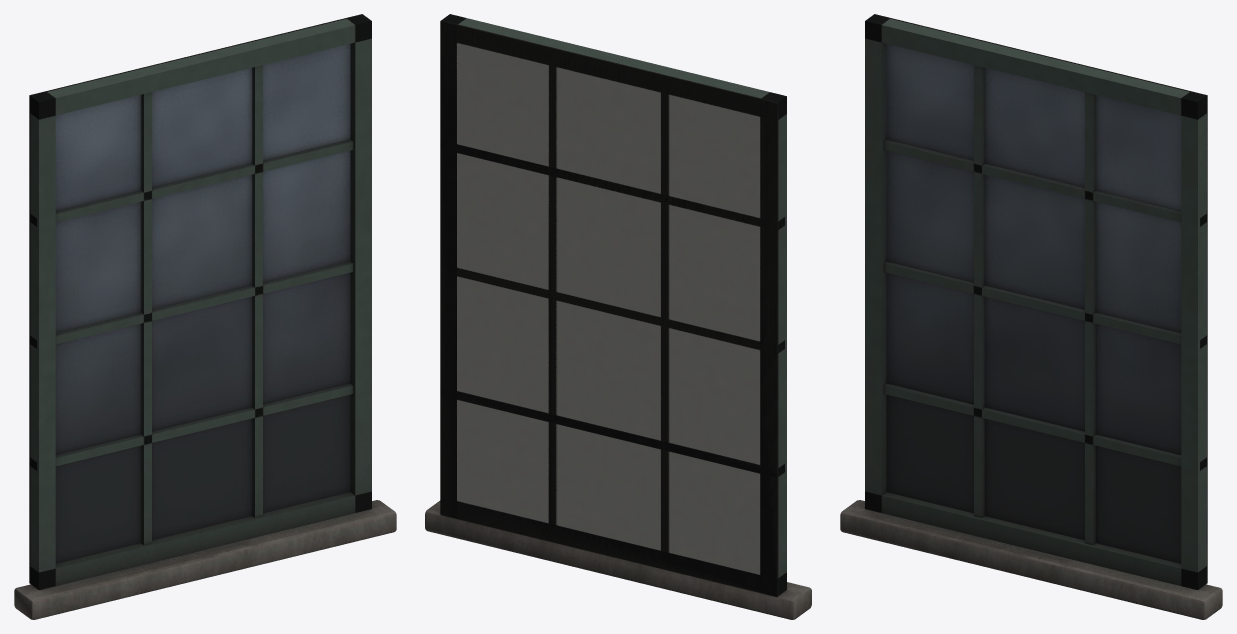
The model's file is win_factory_tall.glb.
The picture shows the model from 3 angles, left to right: view 1: azimuth 30°, elevation 25°; view 2: azimuth 150°, elevation 25°; view 3: azimuth 330°, elevation 25°; orthographic projection.
Visible parts, largest first — view 1: win_factory_tall; view 2: win_factory_tall; view 3: win_factory_tall.
Boxes of the visible parts, box(x1,y1,x2,y2) form: win_factory_tall: box(14, 14, 396, 619); win_factory_tall: box(425, 14, 811, 619); win_factory_tall: box(840, 14, 1222, 619).
Bounding box in the file's own units: 1.1 × 1.46 × 0.1.
Materials: 1 (1 with a texture image).
